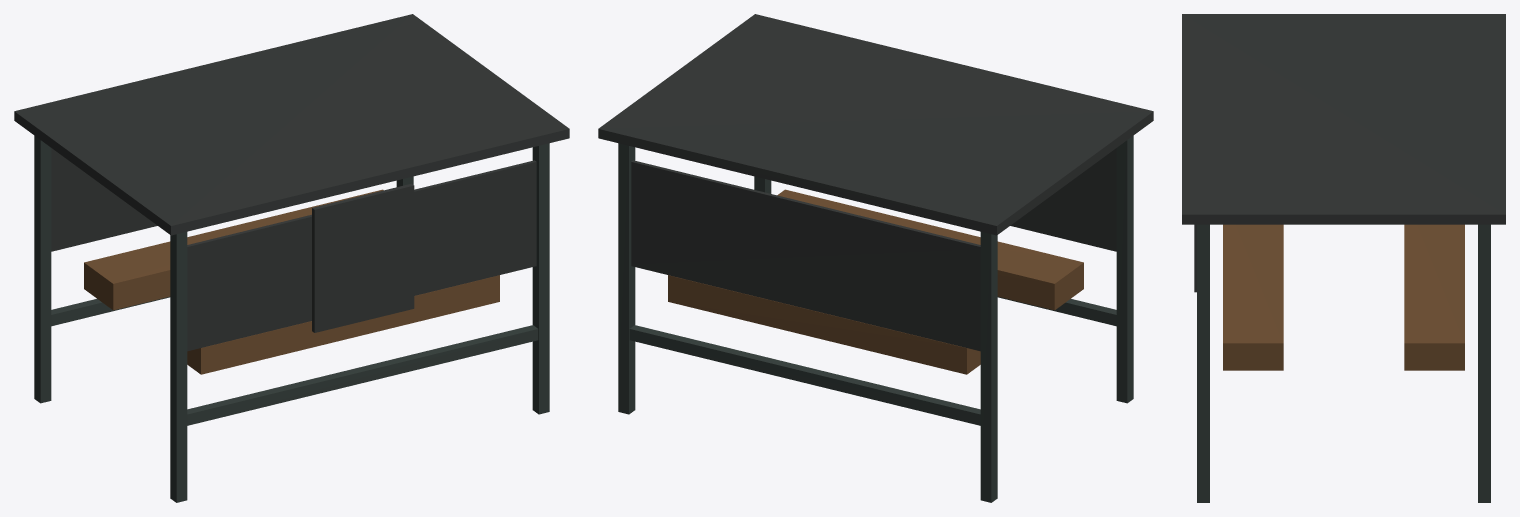
The model's file is Shade-House.glb.
3 renders of one model, left to right at view 1: azimuth 30°, elevation 25°; view 2: azimuth 150°, elevation 25°; view 3: azimuth 270°, elevation 25°, orthographic. The views are drawn at different scales.
Parts seen in each view (by area): view 1: wind-pump-static-shade-house-cloth-mat, wind-pump-static-shade-house-frame-mat, wind-pump-static-shade-house-bench-mat; view 2: wind-pump-static-shade-house-cloth-mat, wind-pump-static-shade-house-frame-mat, wind-pump-static-shade-house-bench-mat; view 3: wind-pump-static-shade-house-cloth-mat, wind-pump-static-shade-house-bench-mat, wind-pump-static-shade-house-frame-mat.
Boxes of the visible parts, x1,y1,x2,y2 form: wind-pump-static-shade-house-cloth-mat: (14,14,569,351); wind-pump-static-shade-house-frame-mat: (34,135,549,502); wind-pump-static-shade-house-bench-mat: (84,189,499,374); wind-pump-static-shade-house-cloth-mat: (598,14,1153,351); wind-pump-static-shade-house-frame-mat: (618,135,1133,502); wind-pump-static-shade-house-bench-mat: (668,189,1083,374); wind-pump-static-shade-house-cloth-mat: (1182,14,1505,292); wind-pump-static-shade-house-bench-mat: (1223,224,1464,370); wind-pump-static-shade-house-frame-mat: (1197,224,1490,502).
Size of the model in its own units: 2.2 by 1.51 by 1.5.
